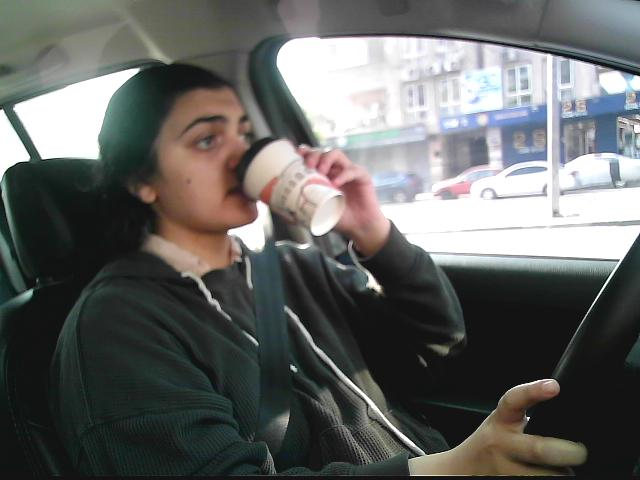Drinking: (229, 133, 349, 238)
